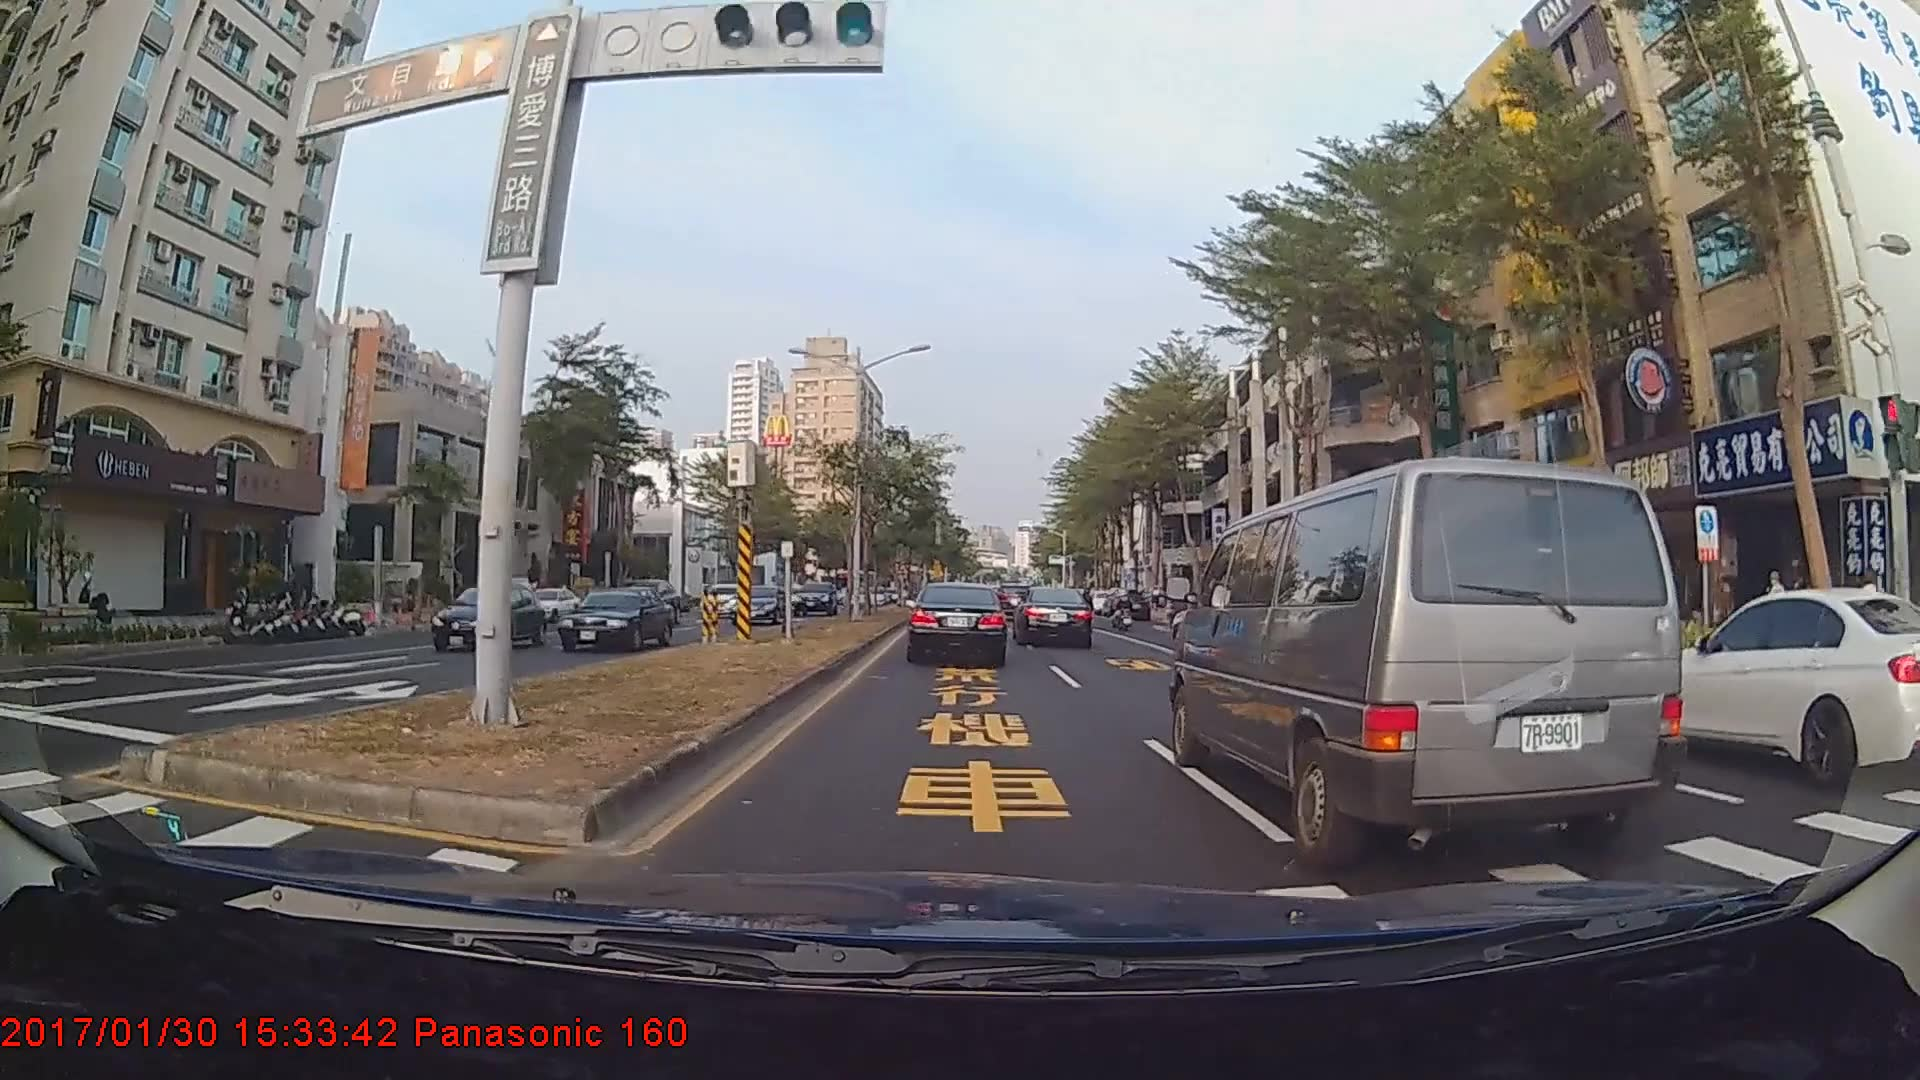vehicle: (1178, 448, 1685, 866), (1636, 584, 1920, 785), (907, 583, 1007, 665), (430, 583, 549, 651), (554, 585, 673, 654), (1013, 585, 1093, 647), (728, 585, 785, 624), (698, 582, 746, 618), (791, 580, 836, 617)
